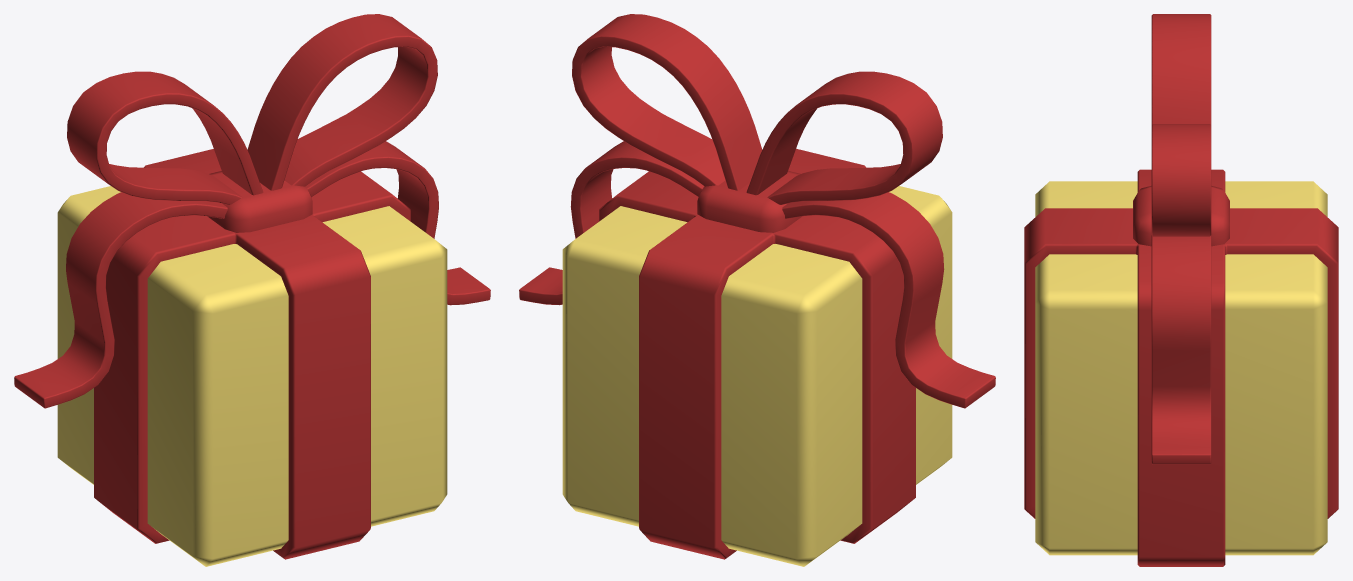
Rendered from Present_1.glb.
3 renders of one model, left to right at view 1: azimuth 30°, elevation 25°; view 2: azimuth 150°, elevation 25°; view 3: azimuth 270°, elevation 25°, orthographic. The views are drawn at different scales.
Parts seen in each view (by area): view 1: Present_1; view 2: Present_1; view 3: Present_1.
Part boxes in pixels (<box>): Present_1: <box>14,14,490,566</box>; Present_1: <box>519,14,995,566</box>; Present_1: <box>1024,14,1338,566</box>.
Bounding box in the file's own units: 0.446 × 0.4221 × 0.2783.
1 material, 1 textured.
